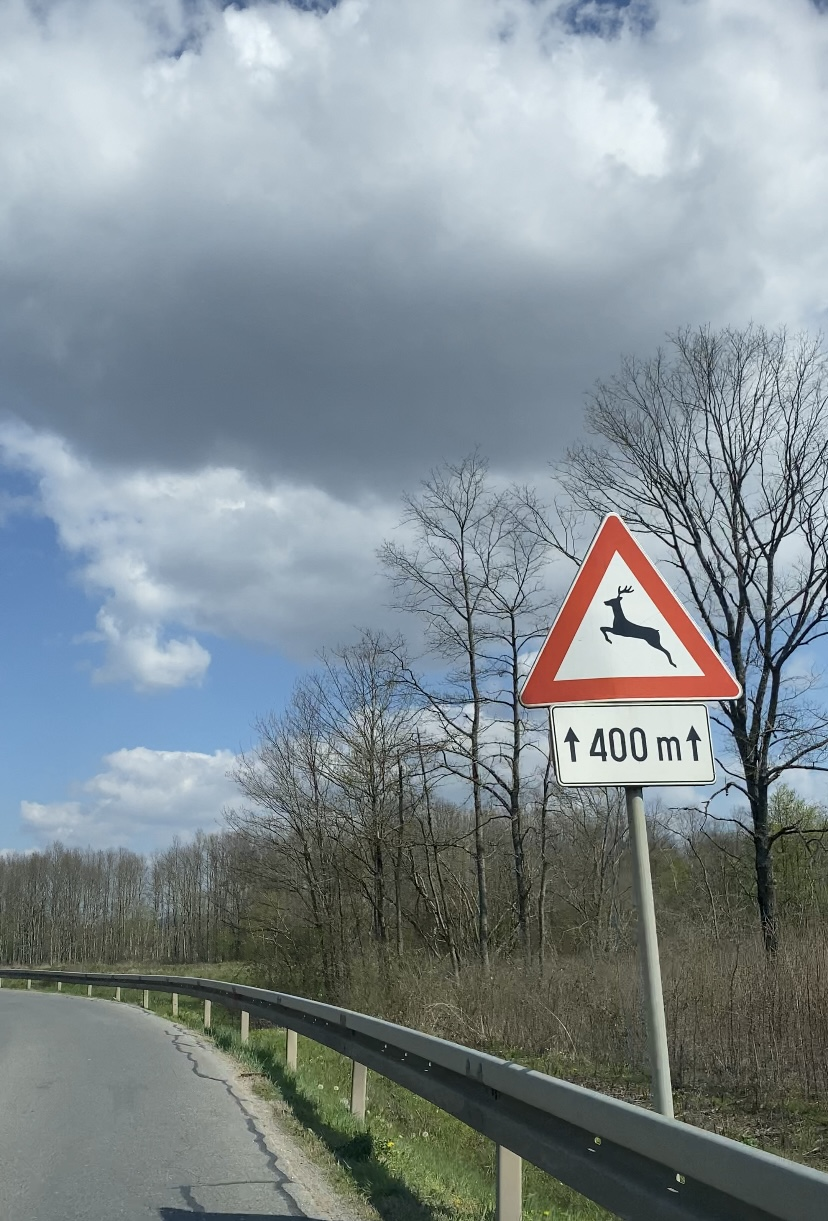Divljač na cesti: (518, 511, 743, 709)
